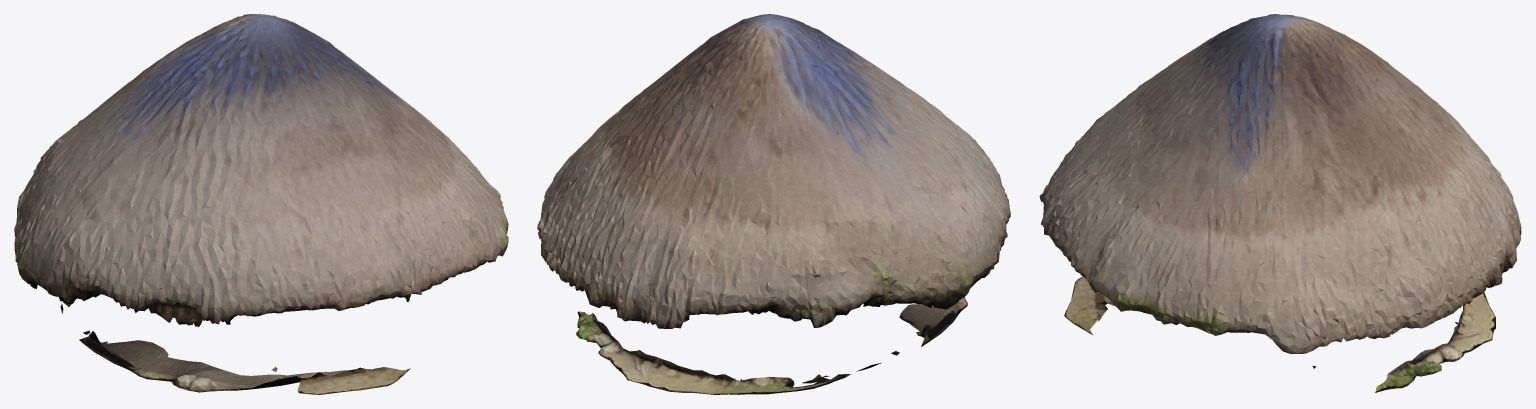
The model's file is papua-barat-daya.glb.
3 renders of one model, left to right at view 1: azimuth 30°, elevation 25°; view 2: azimuth 150°, elevation 25°; view 3: azimuth 270°, elevation 25°, orthographic. The views are drawn at different scales.
Parts seen in each view (by area): view 1: world; view 2: world; view 3: world.
Boxes of the visible parts, box(x1,y1,x2,y2) form: world: box(14, 14, 508, 394); world: box(537, 14, 1010, 394); world: box(1039, 14, 1521, 392).
Size of the model in its own units: 0.5373 by 0.3577 by 0.513.
1 material, 1 textured.
